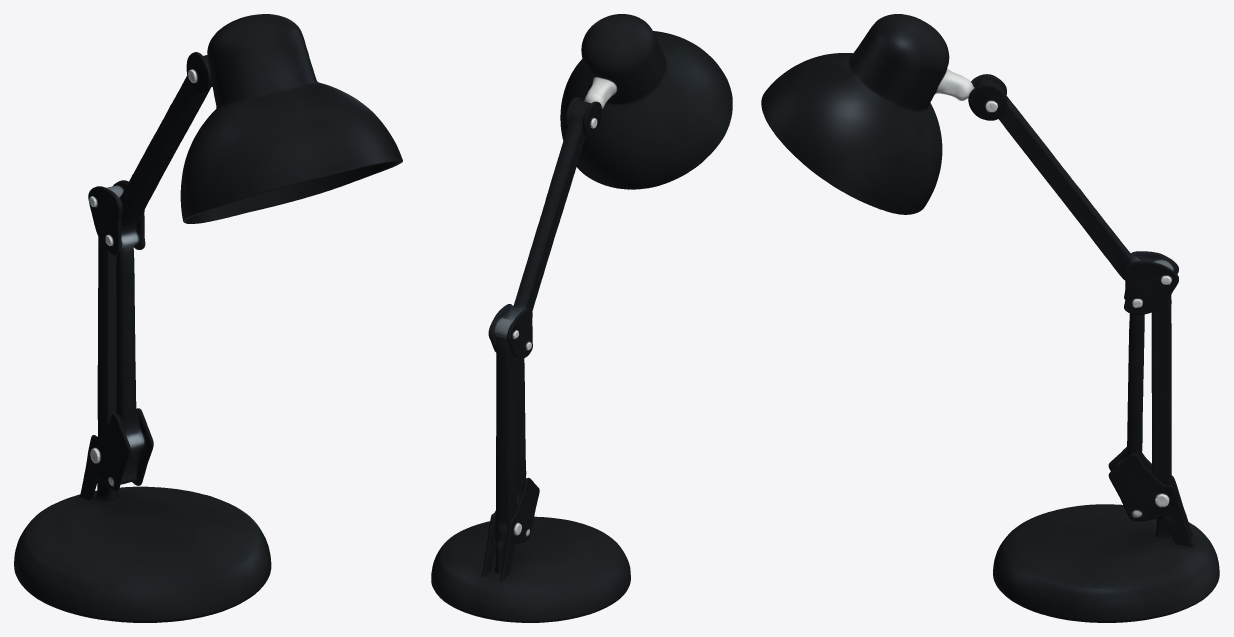
File: lamp-dense.glb
3 views of the same model, side by side, from view 1: azimuth 30°, elevation 25°; view 2: azimuth 150°, elevation 25°; view 3: azimuth 270°, elevation 25° (orthographic). The views are drawn at different scales.
Bounding box in the file's own units: 0.6946 × 1.91 × 1.42.
1 material, 1 textured.
